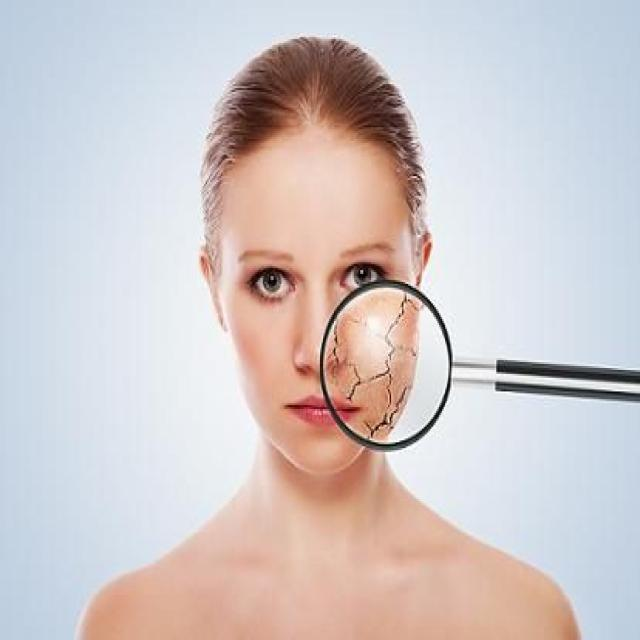dry: (326, 288, 422, 444)
